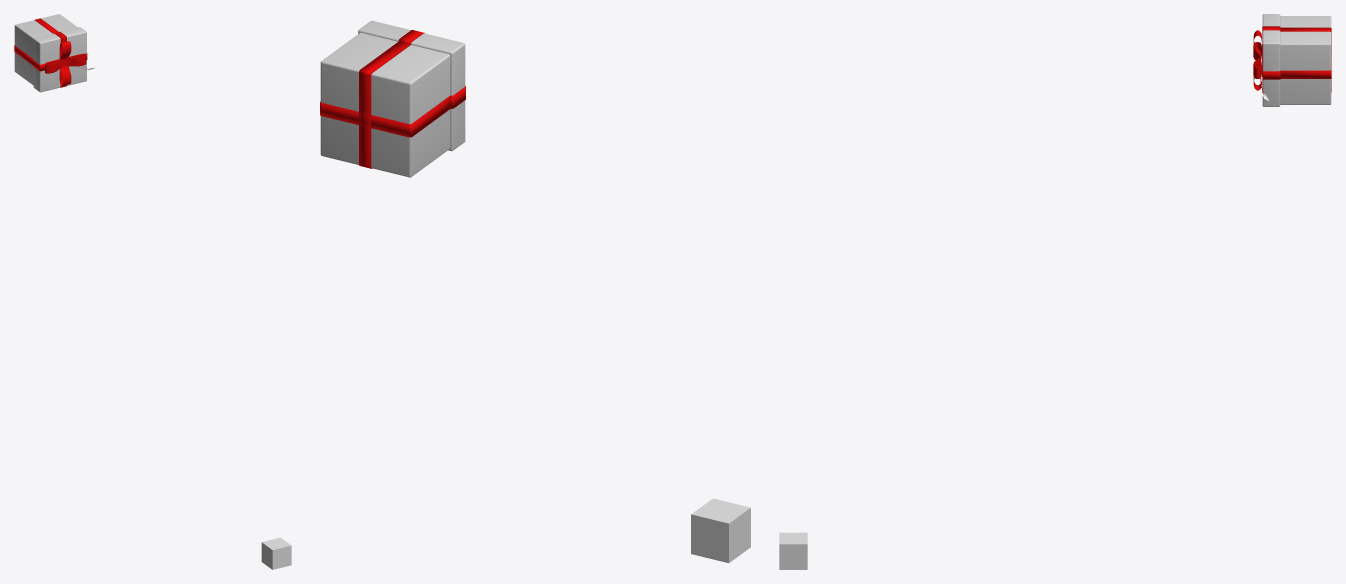
The picture shows the model from 3 angles, left to right: view 1: azimuth 30°, elevation 25°; view 2: azimuth 150°, elevation 25°; view 3: azimuth 270°, elevation 25°; orthographic projection. The views are drawn at different scales.
Parts seen in each view (by area): view 1: BOX, Cube; view 2: BOX, Cube; view 3: BOX, Cube.
Part boxes in pixels (box(x1,y1,x2,y2)): BOX: box(14, 14, 94, 92); Cube: box(261, 537, 291, 569); BOX: box(320, 20, 465, 177); Cube: box(691, 498, 750, 563); BOX: box(1253, 14, 1331, 106); Cube: box(779, 532, 807, 569).
Bounding box in the file's own units: 679 × 4040 × 3916.
